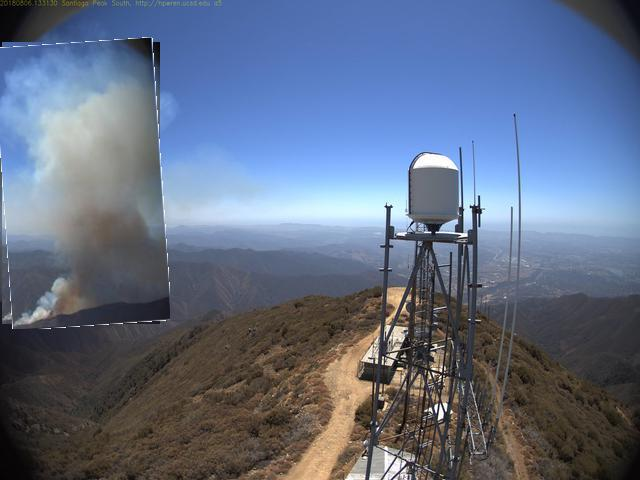smoke: (1, 40, 167, 329)
